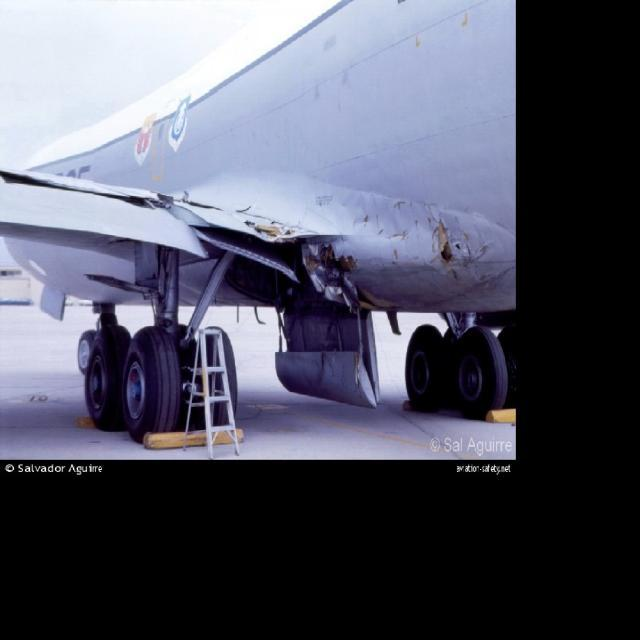crack: (437, 222, 463, 284)
dent: (340, 195, 402, 237)
